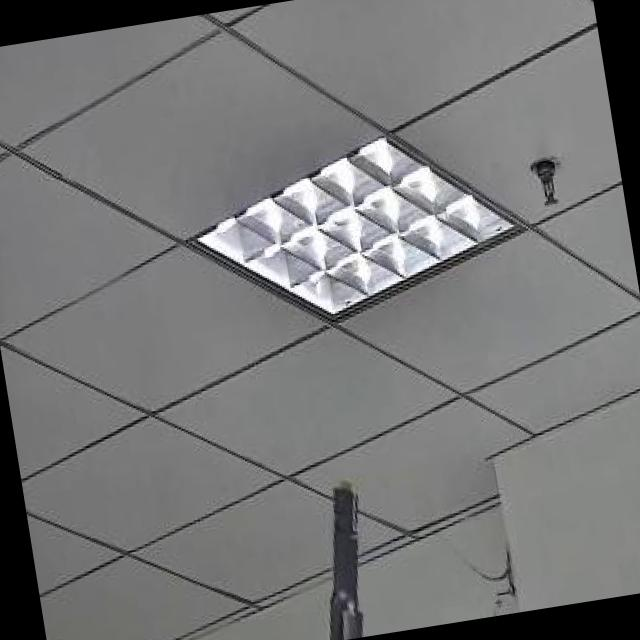Guns: (250, 450, 407, 640)
